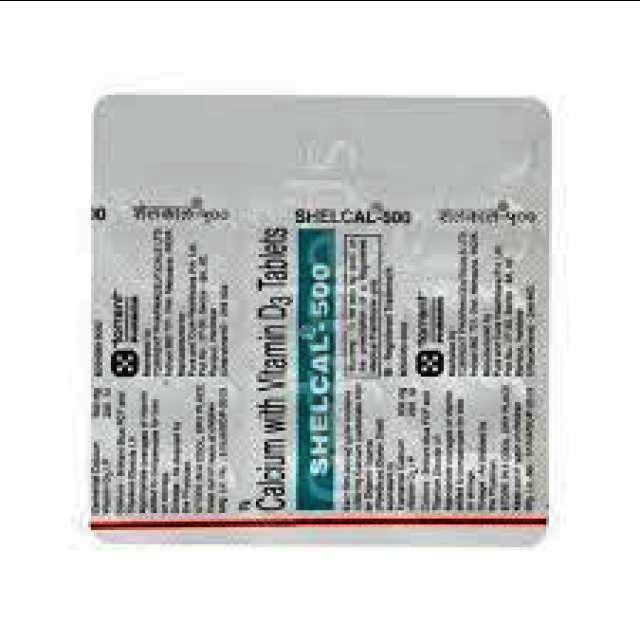authentic: (83, 89, 563, 562)
